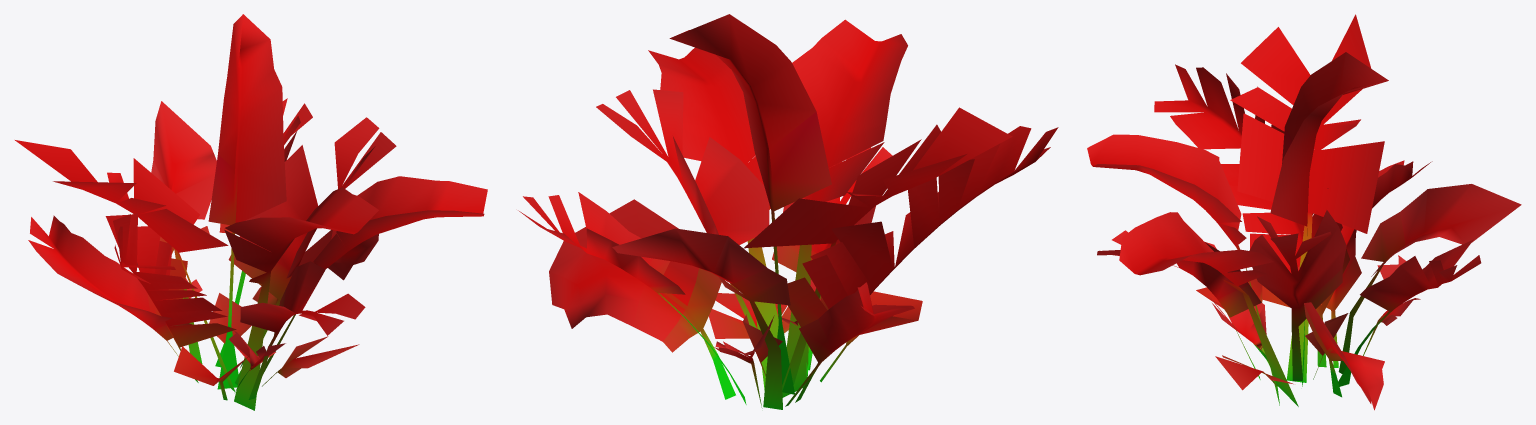
Rendered from Var3_LOD2.fbx.
3 views of the same model, side by side, from view 1: azimuth 30°, elevation 25°; view 2: azimuth 150°, elevation 25°; view 3: azimuth 270°, elevation 25° (orthographic). The views are drawn at different scales.
Visible parts, largest first — view 1: _256e_Var3_LOD2; view 2: _256e_Var3_LOD2; view 3: _256e_Var3_LOD2.
Part boxes in pixels (x1,y1,x2,y2): _256e_Var3_LOD2: (15, 14, 487, 410); _256e_Var3_LOD2: (518, 14, 1058, 409); _256e_Var3_LOD2: (1087, 14, 1521, 410).
Size of the model in its own units: 126 by 115 by 125.
